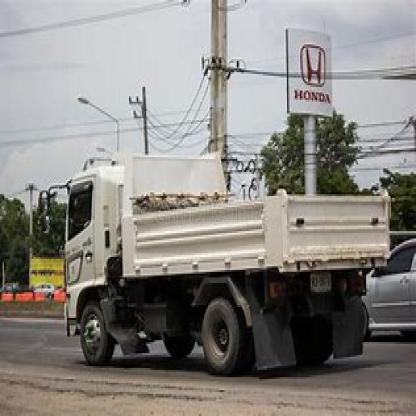dump_truck: (50, 144, 392, 396)
